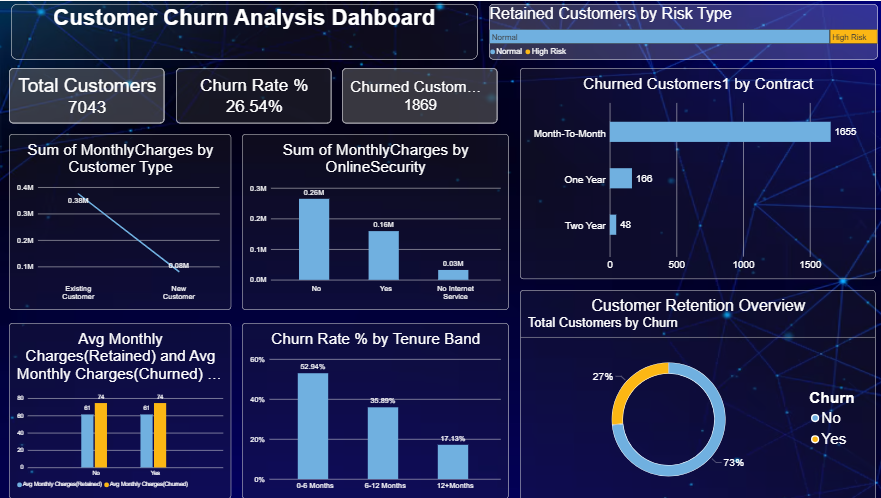

Layout of this report page (visuals, bound fields, positions):
{"tool":"powerbi","page":{"name":"Page 1","canvas":[1920,1080],"ordinal":0},"visuals":[{"type":"textbox","box":[10,290,280,280],"z":1},{"type":"textbox","box":[27.7,7.6,1008,120],"z":2},{"type":"treemap","title":"Retained Customers by Risk Type","fields":{"Group":["telco_churn_unclean.Risk Type"],"Values":["CalculatedM.Retained Customers"]},"box":[1059.7,7.6,840,120],"z":3},{"type":"cardVisual","fields":{"Data":["telco_churn_unclean.Total Customers"]},"box":[24,144,336,120],"z":4},{"type":"cardVisual","fields":{"Data":["CalculatedM.Churn Rate %"]},"box":[384,144,336,120],"z":5},{"type":"cardVisual","fields":{"Data":["CalculatedM.Churned Customers1"]},"box":[744,144,336,120],"z":6},{"type":"donutChart","title":"Customer  Retention Overview","fields":{"Category":["telco_churn_unclean.Churn"],"Y":["telco_churn_unclean.Total Customers"]},"box":[1128,624,768,456],"z":7},{"type":"barChart","fields":{"Category":["telco_churn_unclean.Contract"],"Y":["CalculatedM.Churned Customers1"]},"box":[1128,144,768,456],"z":8},{"type":"columnChart","fields":{"Category":["telco_churn_unclean.OnlineSecurity"],"Y":["Sum(telco_churn_unclean.MonthlyCharges)"]},"box":[528,288,576,380],"z":9},{"type":"columnChart","fields":{"Category":["telco_churn_unclean.Tenure Band"],"Y":["CalculatedM.Churn Rate %"]},"box":[528,696,576,380],"z":10},{"type":"clusteredColumnChart","fields":{"Category":["telco_churn_unclean.Churn"],"Y":["CalculatedM.Avg Monthly Charges(Retained)","CalculatedM.Avg Monthly Charges(Churned)"]},"box":[24,696,480,380],"z":11},{"type":"lineChart","fields":{"Category":["telco_churn_unclean.Customer Type"],"Y":["Sum(telco_churn_unclean.MonthlyCharges)"]},"box":[24,288,480,380],"z":12}]}

Visuals, with their boxes in screenshot pixels (x1, y1, x2, y2), scaled from the page's 1920x1080 canvas onto the 881x498 screenshot:
textbox: detection(5, 134, 133, 263)
textbox: detection(13, 4, 475, 59)
"Retained Customers by Risk Type" treemap: detection(486, 4, 872, 59)
cardVisual - telco_churn_unclean.Total Customers: detection(11, 66, 165, 122)
cardVisual - CalculatedM.Churn Rate %: detection(176, 66, 330, 122)
cardVisual - CalculatedM.Churned Customers1: detection(341, 66, 496, 122)
"Customer  Retention Overview" donutChart: detection(518, 288, 870, 497)
barChart - telco_churn_unclean.Contract x CalculatedM.Churned Customers1: detection(518, 66, 870, 277)
columnChart - telco_churn_unclean.OnlineSecurity x Sum(telco_churn_unclean.MonthlyCharges): detection(242, 133, 507, 308)
columnChart - telco_churn_unclean.Tenure Band x CalculatedM.Churn Rate %: detection(242, 321, 507, 496)
clusteredColumnChart - telco_churn_unclean.Churn x CalculatedM.Avg Monthly Charges(Retained): detection(11, 321, 231, 496)
lineChart - telco_churn_unclean.Customer Type x Sum(telco_churn_unclean.MonthlyCharges): detection(11, 133, 231, 308)
